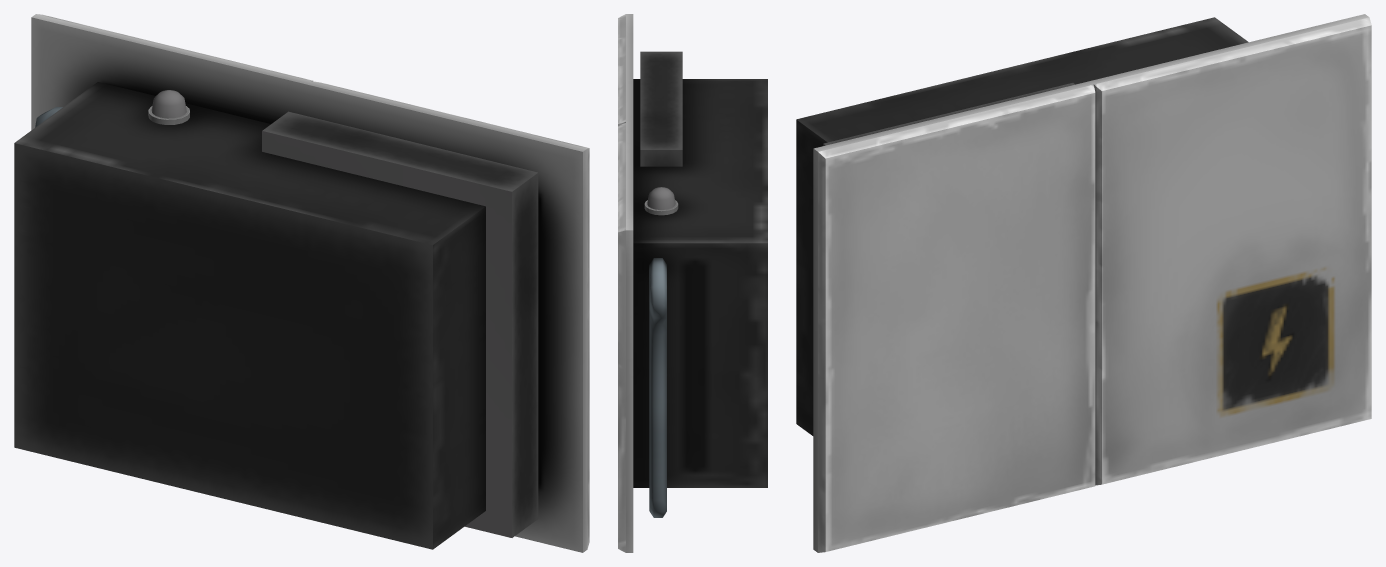
Rendered from RangerBattery.dae.
3 views of the same model, side by side, from view 1: azimuth 30°, elevation 25°; view 2: azimuth 150°, elevation 25°; view 3: azimuth 270°, elevation 25° (orthographic). The views are drawn at different scales.
Parts seen in each view (by area): view 1: BatteryBase, Shield, Block, Bulb; view 2: BatteryBase, Shield, Block, Cable2, Bulb, polySurface1; view 3: Shield, BatteryBase, Block.
Boxes of the visible parts, x1,y1,x2,y2 form: BatteryBase: [14, 82, 485, 549]; Shield: [31, 14, 589, 552]; Block: [262, 111, 538, 537]; Bulb: [151, 90, 186, 118]; BatteryBase: [633, 79, 767, 487]; Shield: [618, 14, 633, 552]; Block: [640, 51, 682, 166]; Cable2: [649, 258, 666, 517]; Bulb: [647, 187, 675, 209]; polySurface1: [644, 200, 678, 215]; Shield: [813, 14, 1371, 552]; BatteryBase: [796, 17, 1248, 435]; Block: [823, 83, 1074, 145].
Bounding box in the file's own units: 0.1837 × 0.1878 × 0.2404.
